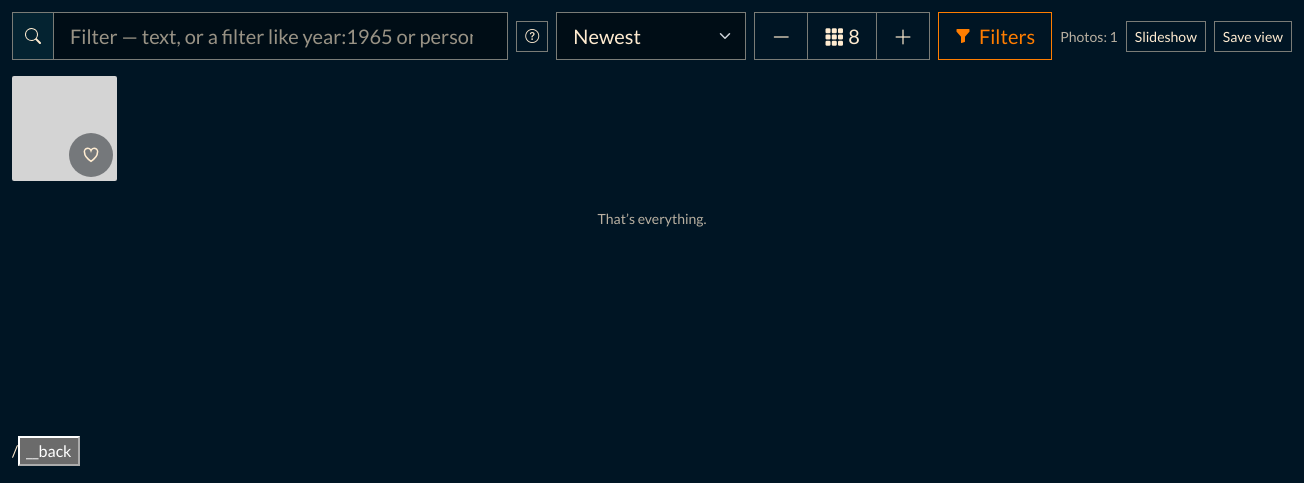
Test: LibraryPage › changing the sort updates the URL and refetches with the new sort
Select "Oldest" in the dropdown named "Sort" at x=651, y=36, box [556,12,746,60]
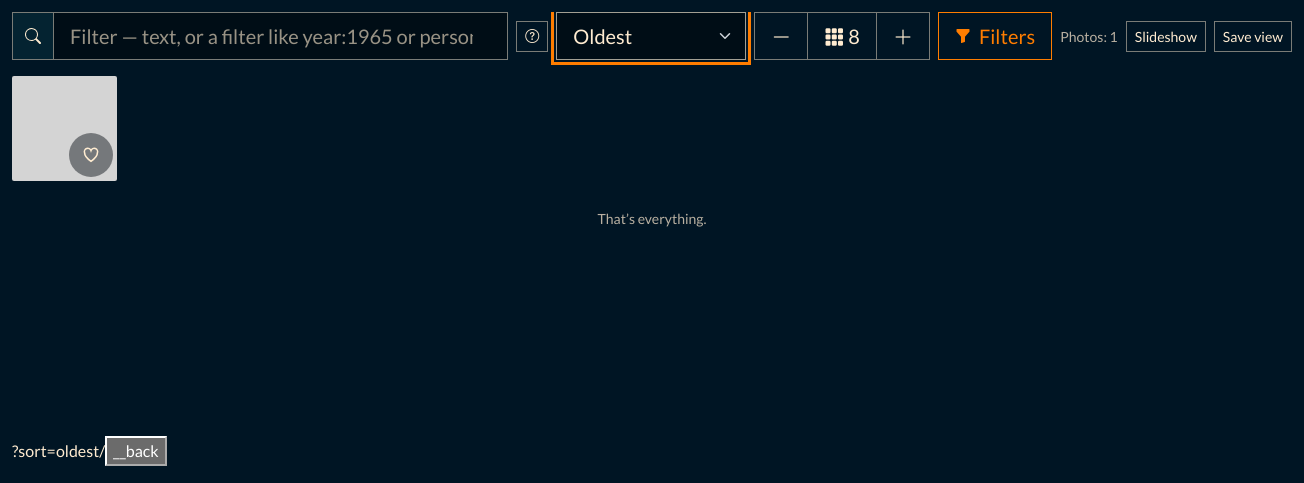
Check: the text with test id "search" shows "sort=oldest", box [12,441,99,460]
